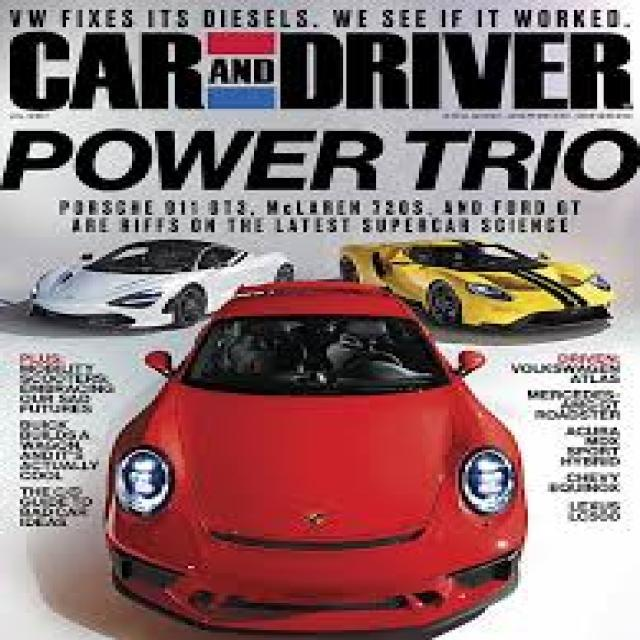Newspaper: (0, 0, 640, 625)
